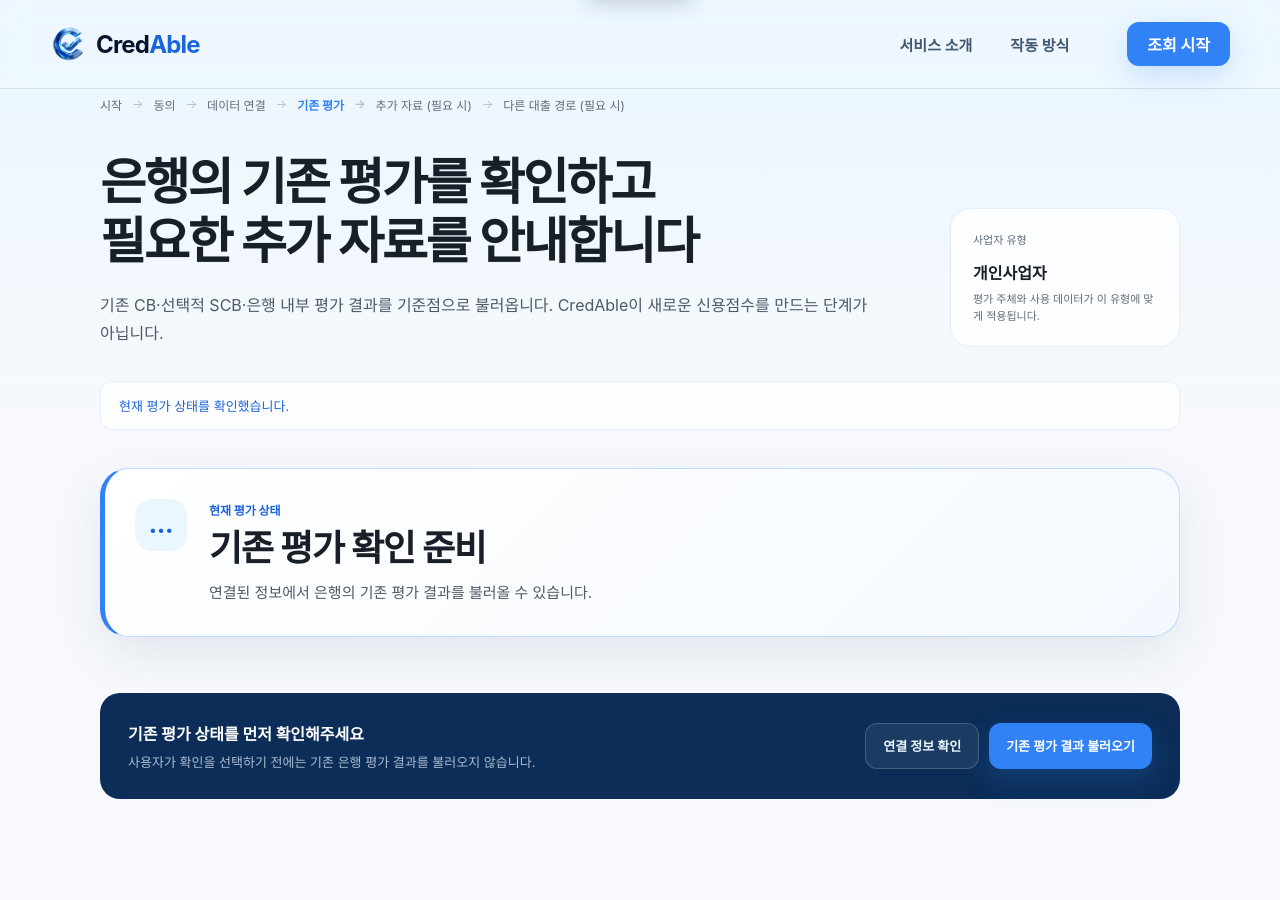
Test case: AssessmentPage › blocks boundary checking when the server cannot complete the assessment
Click the button "기존 평가 결과 불러오기". click: click(1071, 746)
box: [989,723,1152,769]
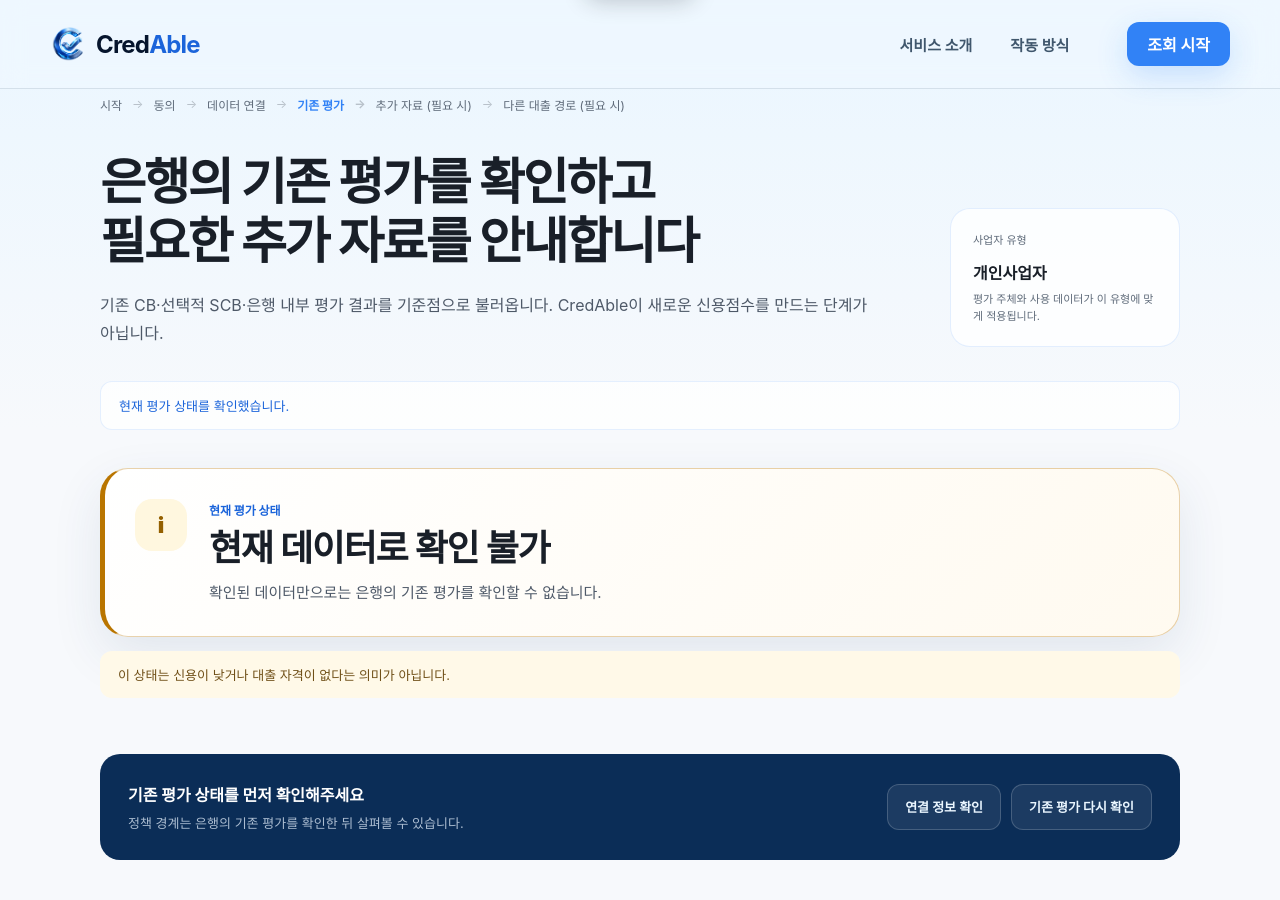
Result: the heading "현재 데이터로 확인 불가" is shown at [209,526,549,570]
Result: the text "이 상태는 신용이 낮거나 대출 자격이 없다는 의미가 아닙니다." is shown at [100,651,1180,698]
